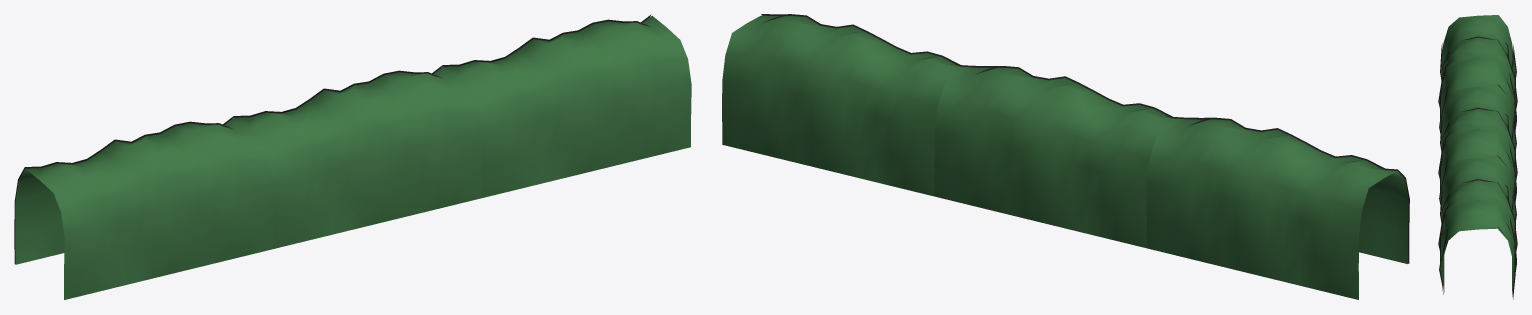
File: hedge.fbx
3 views of the same model, side by side, from view 1: azimuth 30°, elevation 25°; view 2: azimuth 150°, elevation 25°; view 3: azimuth 270°, elevation 25° (orthographic). The views are drawn at different scales.
Parts seen in each view (by area): view 1: Park_Hedge, Prev_Park_Hedge_2, Prev_Park_Hedge_1; view 2: Park_Hedge, Prev_Park_Hedge_2, Prev_Park_Hedge_1; view 3: Prev_Park_Hedge_2, Park_Hedge, Prev_Park_Hedge_1.
Part boxes in pixels (left/top/right/bottom): Park_Hedge: left=14, top=116, right=273, bottom=299; Prev_Park_Hedge_2: left=441, top=14, right=691, bottom=197; Prev_Park_Hedge_1: left=232, top=65, right=482, bottom=248; Park_Hedge: left=1146, top=117, right=1409, bottom=299; Prev_Park_Hedge_2: left=722, top=14, right=974, bottom=196; Prev_Park_Hedge_1: left=934, top=65, right=1186, bottom=248; Prev_Park_Hedge_2: left=1438, top=157, right=1517, bottom=299; Park_Hedge: left=1438, top=15, right=1517, bottom=134; Prev_Park_Hedge_1: left=1438, top=86, right=1517, bottom=205.
Bounding box in the file's own units: 600 × 108 × 94.26.
